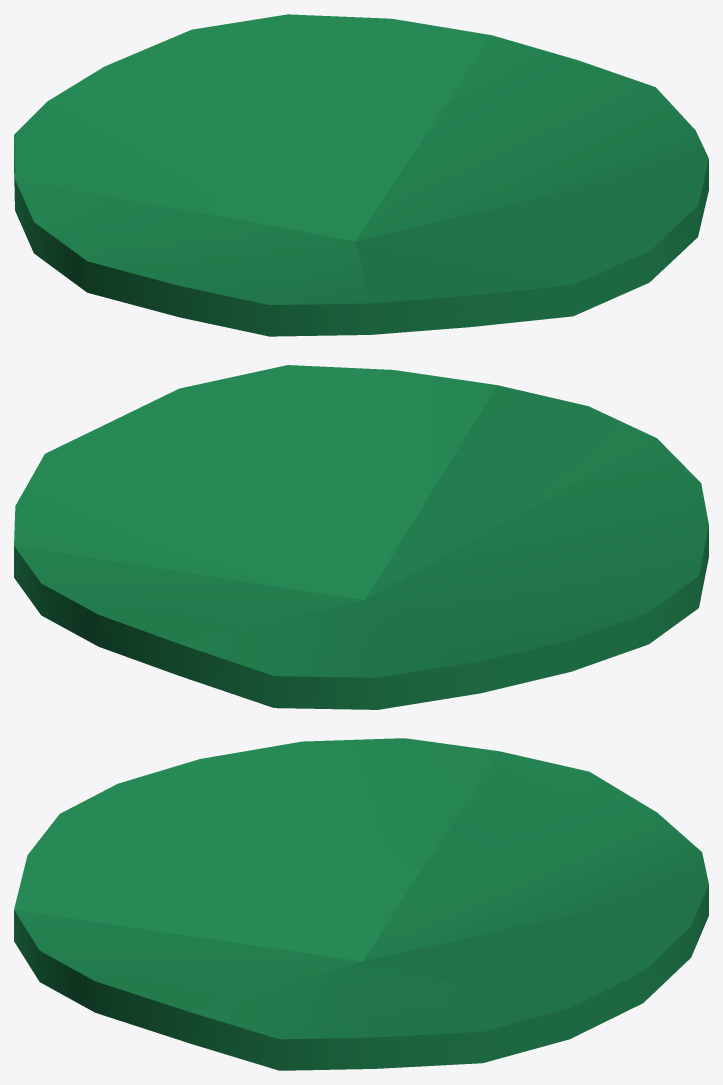
Rendered from plant_mushroom_leaf_B_thick.fbx.
The picture shows the model from 3 angles, top to bottom: view 1: azimuth 30°, elevation 25°; view 2: azimuth 150°, elevation 25°; view 3: azimuth 270°, elevation 25°; orthographic projection.
Parts seen in each view (by area): view 1: plant_mushroom_leaf_B_thick; view 2: plant_mushroom_leaf_B_thick; view 3: plant_mushroom_leaf_B_thick.
Part boxes in pixels (<box>): plant_mushroom_leaf_B_thick: <box>14,14,708,336</box>; plant_mushroom_leaf_B_thick: <box>14,365,708,709</box>; plant_mushroom_leaf_B_thick: <box>14,738,708,1070</box>.
Bounding box in the file's own units: 30.09 × 8.2 × 29.82.
